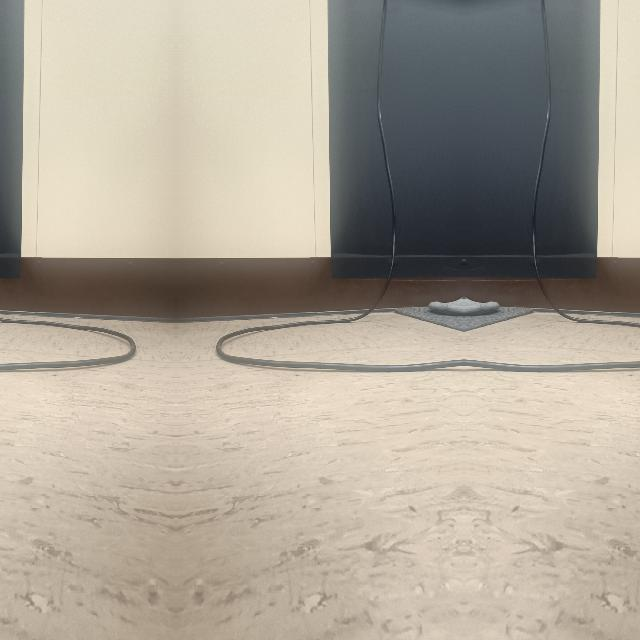obstacle: (214, 312, 462, 396), (466, 312, 640, 395), (0, 312, 135, 395)
